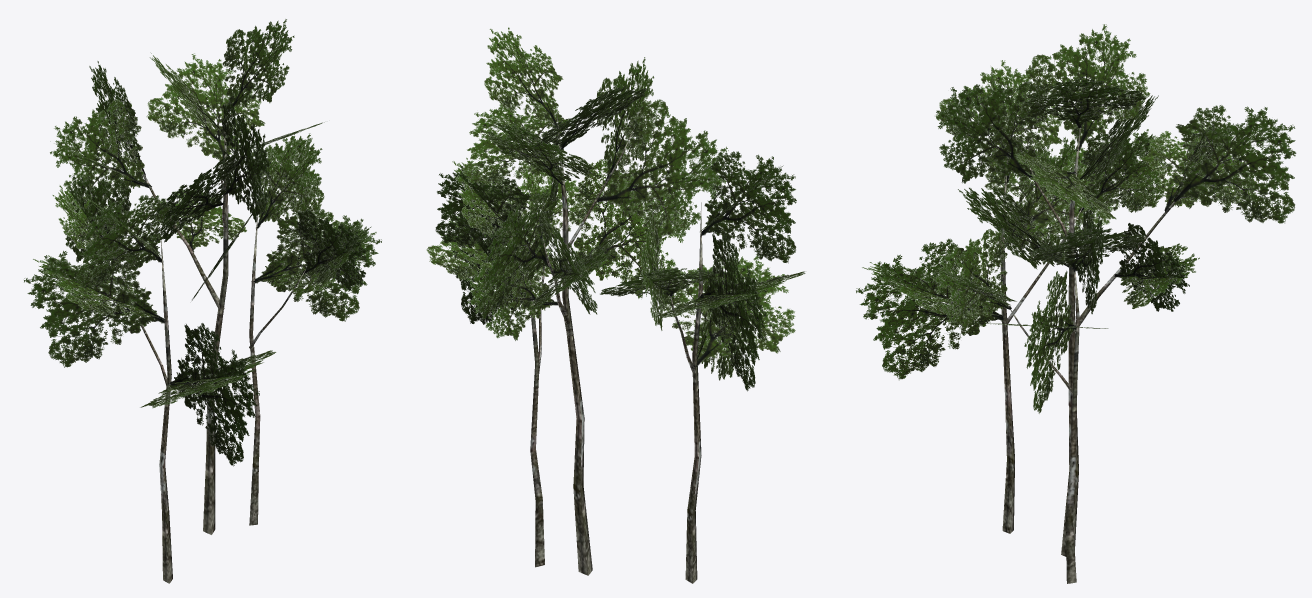
Rendered from jungletree.fbx.
3 views of the same model, side by side, from view 1: azimuth 30°, elevation 25°; view 2: azimuth 150°, elevation 25°; view 3: azimuth 270°, elevation 25° (orthographic). The views are drawn at different scales.
Parts seen in each view (by area): view 1: Cube; view 2: Cube; view 3: Cube.
Boxes of the visible parts, bbox=[...] form: Cube: bbox=[24, 19, 381, 583]; Cube: bbox=[426, 27, 805, 583]; Cube: bbox=[856, 24, 1296, 583].
Bounding box in the file's own units: 12.24 × 17.38 × 13.1.
1 material, 1 textured.
